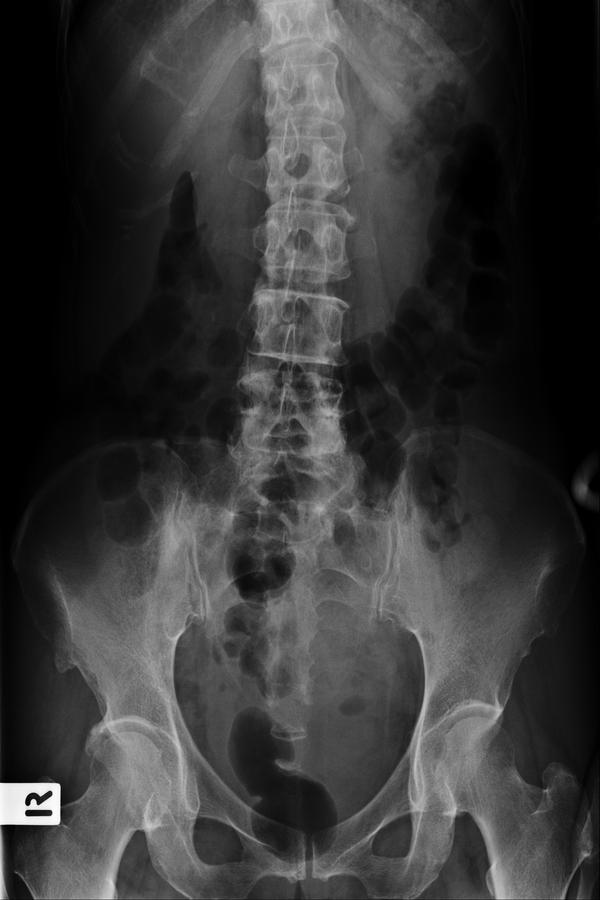lumbar scoliosis: (234, 12, 352, 548)
